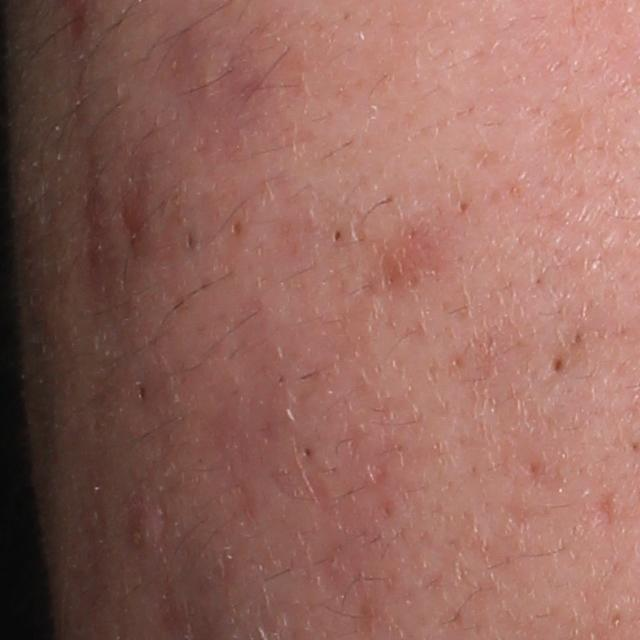atrophic_scar: (588, 487, 623, 534)
comedo: (548, 353, 569, 375), (456, 196, 475, 216), (330, 227, 342, 243)
